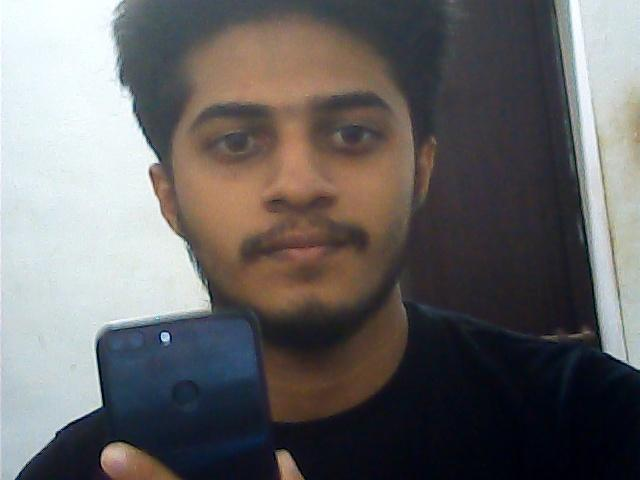PhoneUse: (92, 305, 290, 479)
SafeDriving: (310, 103, 396, 160), (194, 114, 278, 164)
